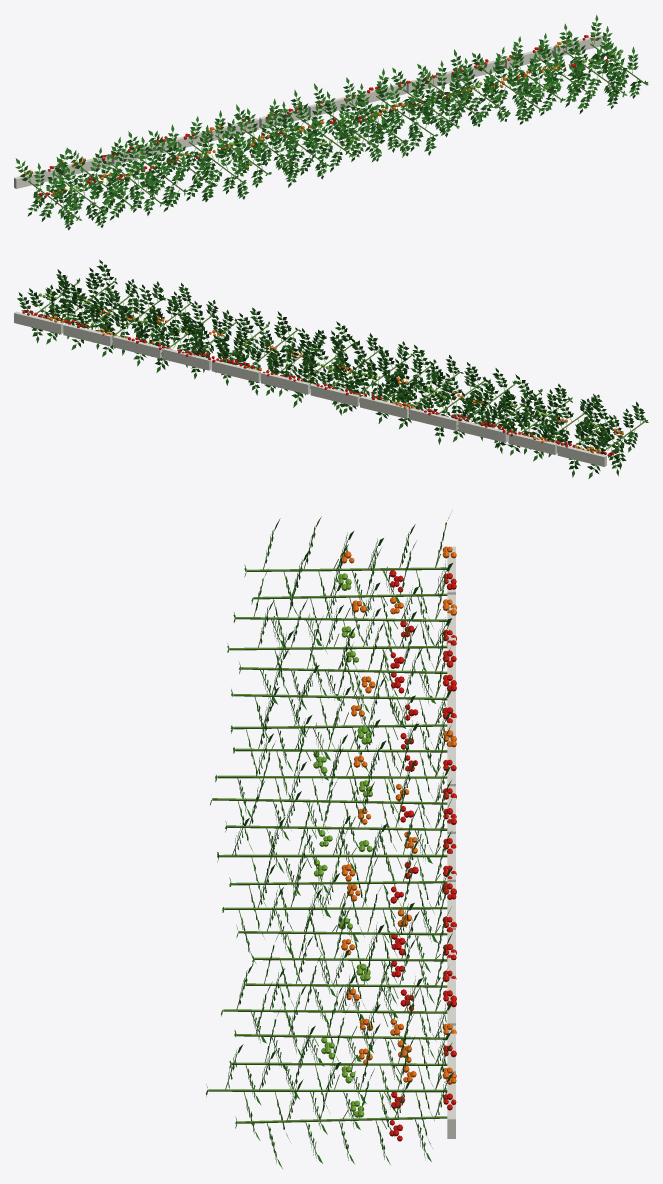
The model's file is row15.obj.
3 views of the same model, one above another, from view 1: azimuth 30°, elevation 25°; view 2: azimuth 150°, elevation 25°; view 3: azimuth 270°, elevation 25° (orthographic). The views are drawn at different scales.
Parts seen in each view (by area): view 1: row15; view 2: row15; view 3: row15.
Boxes of the visible parts, x1,y1,x2,y2 form: row15: (14, 14, 648, 230); row15: (14, 259, 648, 478); row15: (206, 516, 456, 1168).
Bounding box in the file's own units: 12.49 × 1.16 × 2.31.
